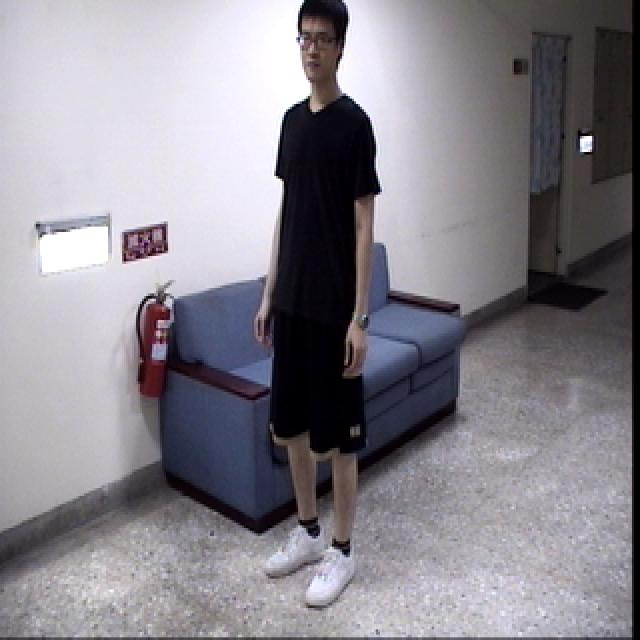stand: (249, 0, 390, 617)
